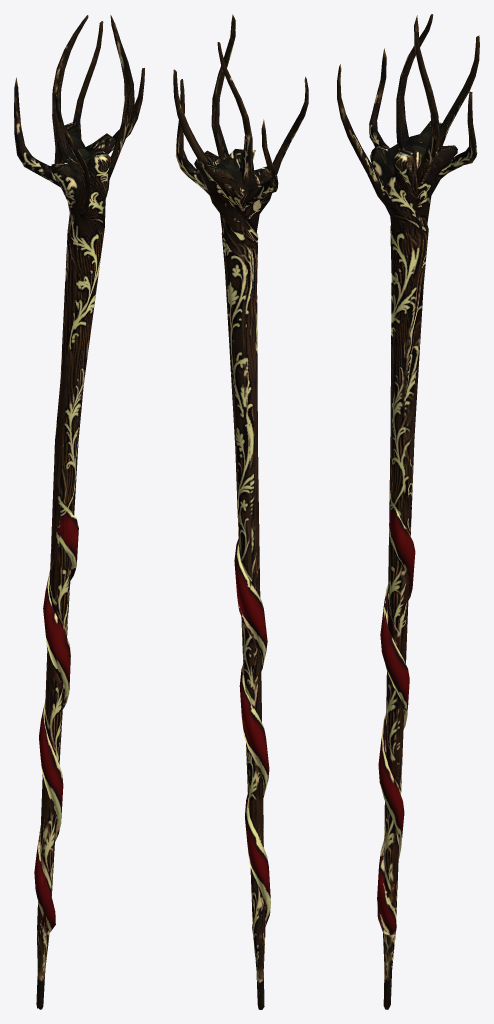
Rendered from w_staff_t3.glb.
The picture shows the model from 3 angles, left to right: view 1: azimuth 30°, elevation 25°; view 2: azimuth 150°, elevation 25°; view 3: azimuth 330°, elevation 25°; orthographic projection. The views are drawn at different scales.
Visible parts, largest first — view 1: StaffNovice02:0; view 2: StaffNovice02:0; view 3: StaffNovice02:0.
Part boxes in pixels (left/top/right/bottom): StaffNovice02:0: left=14, top=15, right=144, bottom=1009; StaffNovice02:0: left=173, top=14, right=308, bottom=1009; StaffNovice02:0: left=337, top=14, right=479, bottom=1009.
Size of the model in its own units: 14.15 by 119 by 11.95.
1 material, 1 textured.
